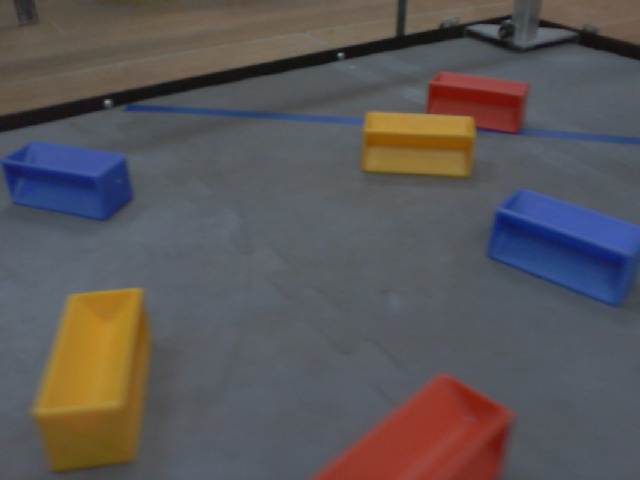BlueSample: (481, 180, 640, 310), (3, 137, 136, 222)
RedSample: (310, 372, 522, 479), (421, 67, 531, 137)
YellowSample: (34, 282, 151, 470), (357, 109, 478, 179)
